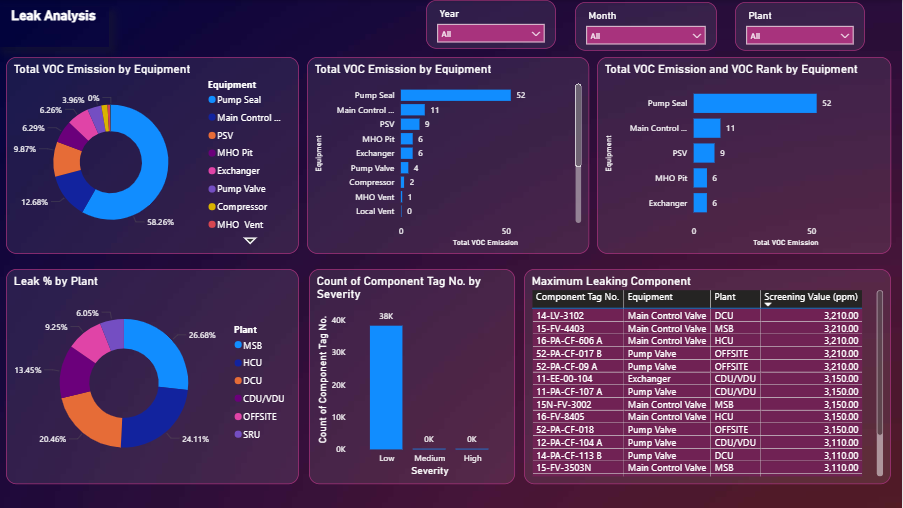

The page's visual inventory and layout, read from the dashboard file:
{"tool":"powerbi","page":{"name":"Leak Analysis","canvas":[1280,720],"ordinal":1},"visuals":[{"type":"clusteredBarChart","fields":{"Category":["Plant_Data.Equipment"],"Y":["Measures_List.Total VOC Emission"]},"box":[438,80.8,399.7,279.2],"z":0},{"type":"donutChart","fields":{"Category":["Plant_Data.Equipment"],"Y":["Measures_List.Total VOC Emission"]},"box":[11.3,80.8,415.3,279.2],"z":1001},{"type":"textbox","title":"Leak Analysis","box":[0,9.9,157.3,56.7],"z":1002},{"type":"pieChart","fields":{"Category":["Plant_Data.Plant"],"Y":["Measures_List.Leak %"]},"box":[11.3,381.3,415.3,304.7],"z":1003},{"type":"clusteredBarChart","fields":{"Category":["Plant_Data.Equipment"],"Y":["Measures_List.Total VOC Emission"]},"box":[849,80.8,416.7,279.2],"z":1004},{"type":"columnChart","fields":{"Category":["Plant_Data.Severity"],"Y":["CountNonNull(Plant_Data.Component Tag No.)"]},"box":[440.1,381.3,292,304.7],"z":1005},{"type":"tableEx","title":"Maximum Leaking Component","fields":{"Values":["Plant_Data.Component Tag No.","Plant_Data.Equipment","Plant_Data.Plant","Plant_Data.Screening Value (ppm)"]},"box":[745.5,381.3,520.2,304.7],"z":1006},{"type":"slicer","fields":{"Values":["Dates.Month Name"]},"box":[817.1,2.8,201.3,69.4],"z":1007},{"type":"slicer","fields":{"Values":["Dates.Year"]},"box":[606.6,0,184.3,69.4],"z":1008},{"type":"slicer","fields":{"Values":["Plant_Data.Plant"]},"box":[1044.6,2.8,184.3,69.4],"z":1009}]}

Visuals, with their boxes in screenshot pixels (x1, y1, x2, y2), scaled from the page's 1280x720 canvas onto the 903x508 screenshot:
clusteredBarChart - Plant_Data.Equipment x Measures_List.Total VOC Emission: (309, 57, 591, 254)
donutChart - Plant_Data.Equipment x Measures_List.Total VOC Emission: (8, 57, 301, 254)
"Leak Analysis" textbox: (0, 7, 111, 47)
pieChart - Plant_Data.Plant x Measures_List.Leak %: (8, 269, 301, 484)
clusteredBarChart - Plant_Data.Equipment x Measures_List.Total VOC Emission: (599, 57, 893, 254)
columnChart - Plant_Data.Severity x CountNonNull(Plant_Data.Component Tag No.): (310, 269, 516, 484)
"Maximum Leaking Component" tableEx: (526, 269, 893, 484)
slicer - Dates.Month Name: (576, 2, 718, 51)
slicer - Dates.Year: (428, 0, 558, 49)
slicer - Plant_Data.Plant: (737, 2, 867, 51)
